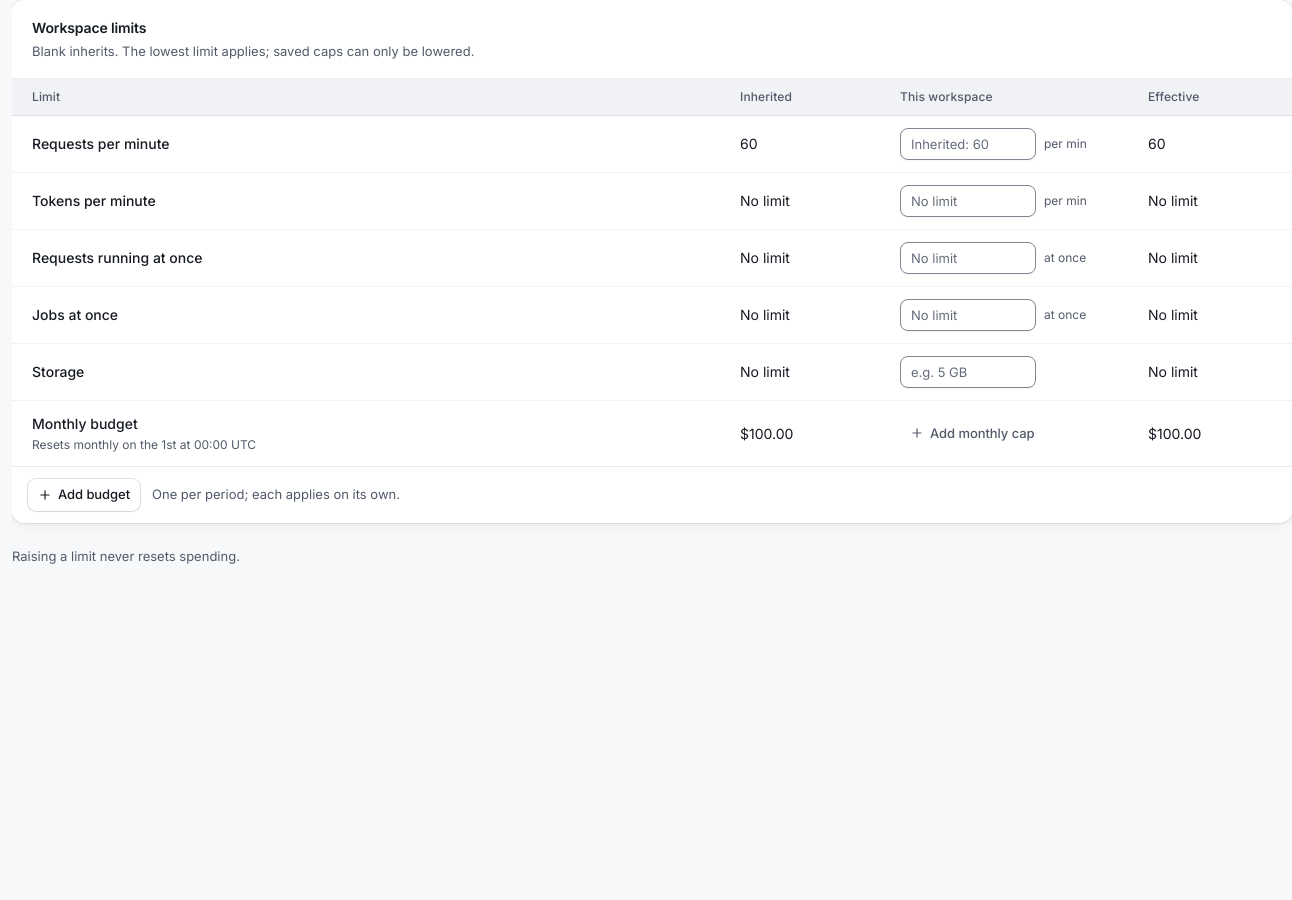
Test: Policy rejections in the limits editor › places exceeds_parent_budget on that period's budget row
The width and height of the screenshot is (1292, 900).
Click the button "Add budget" at (84, 494), box [28,478,140,510]
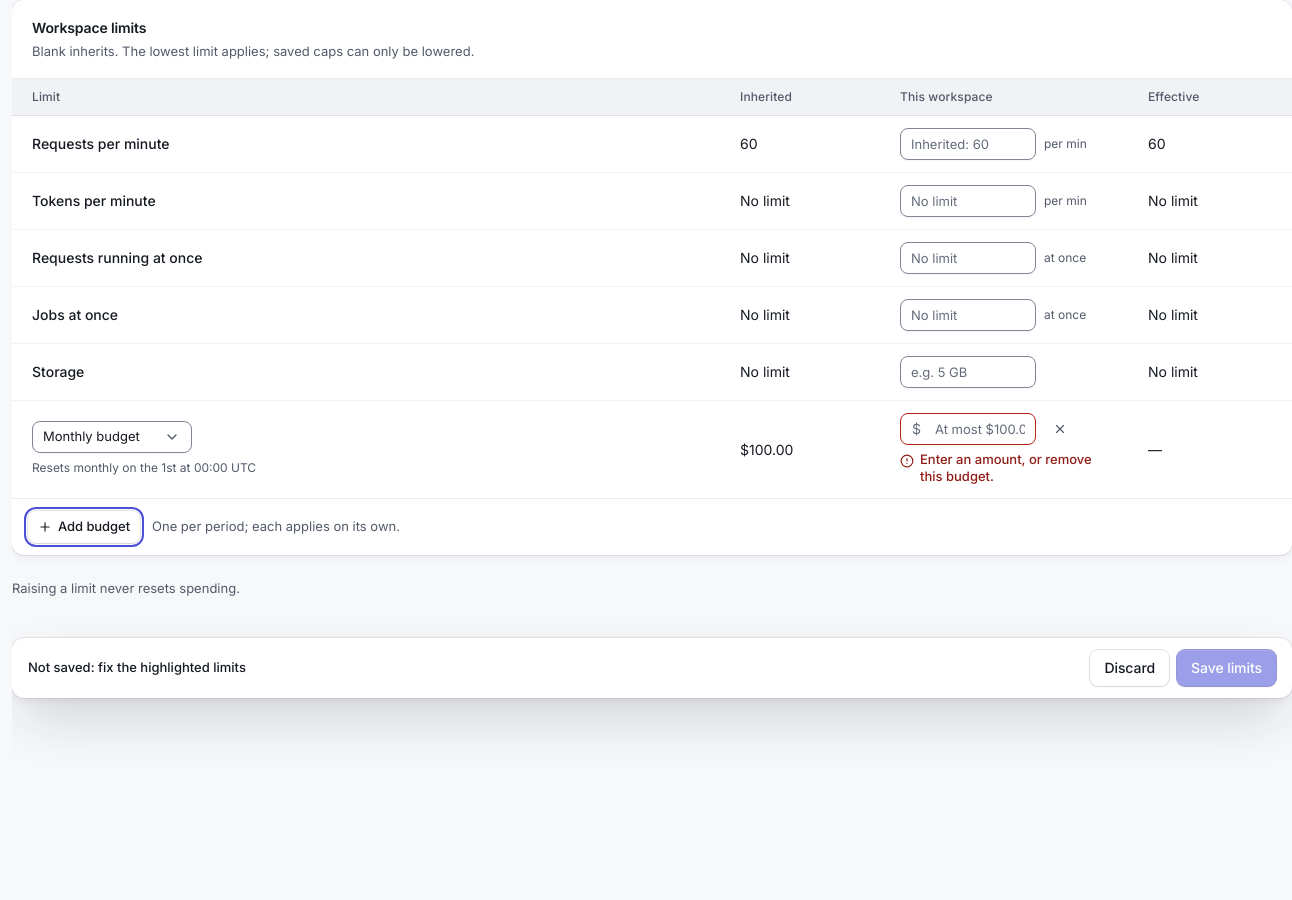
Type "50" into the field labelled "Monthly budget (USD) · This workspace" at (968, 428), box [900,412,1036,444]
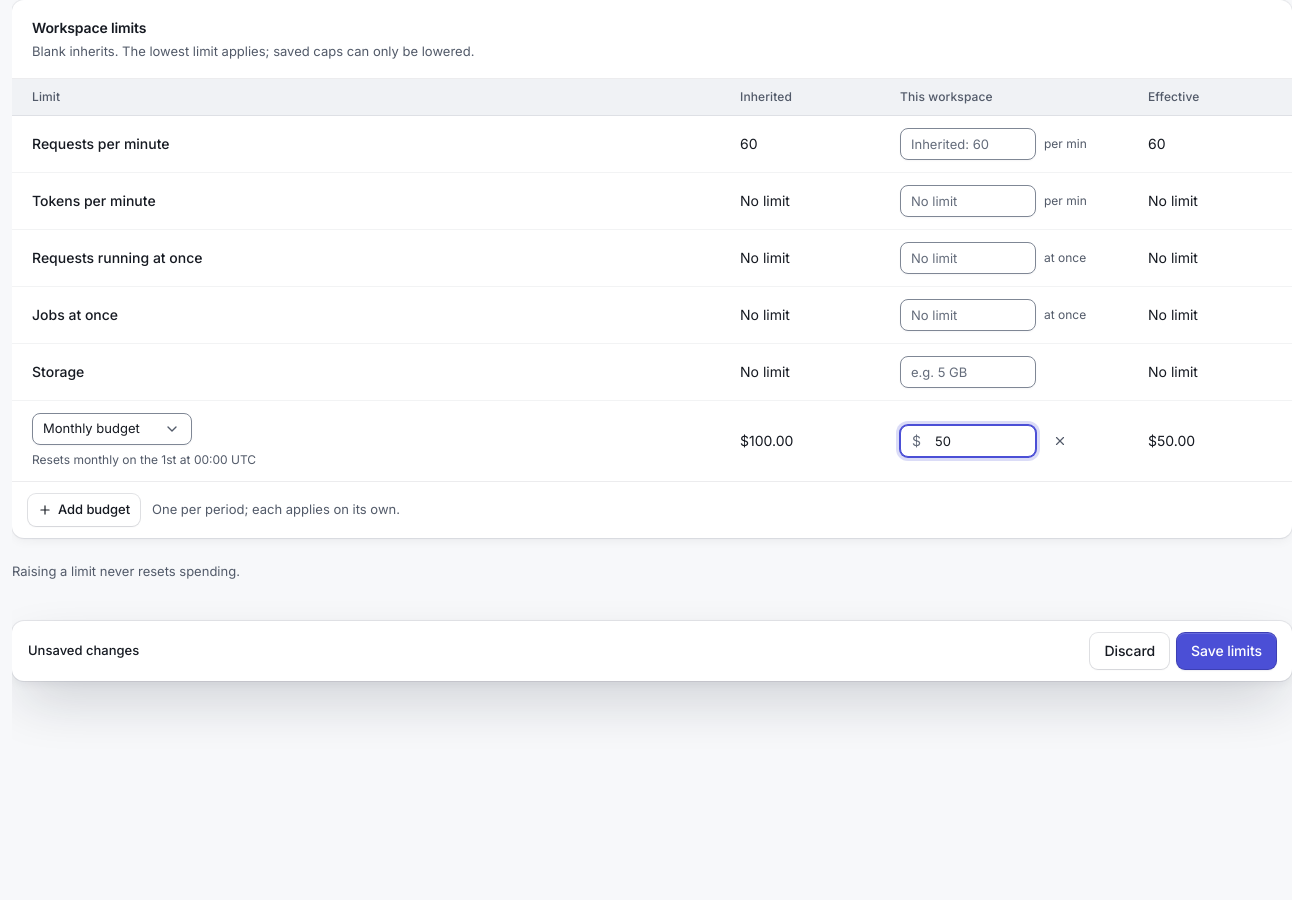
Click the button "Add budget" at (84, 510), box [28,494,140,526]
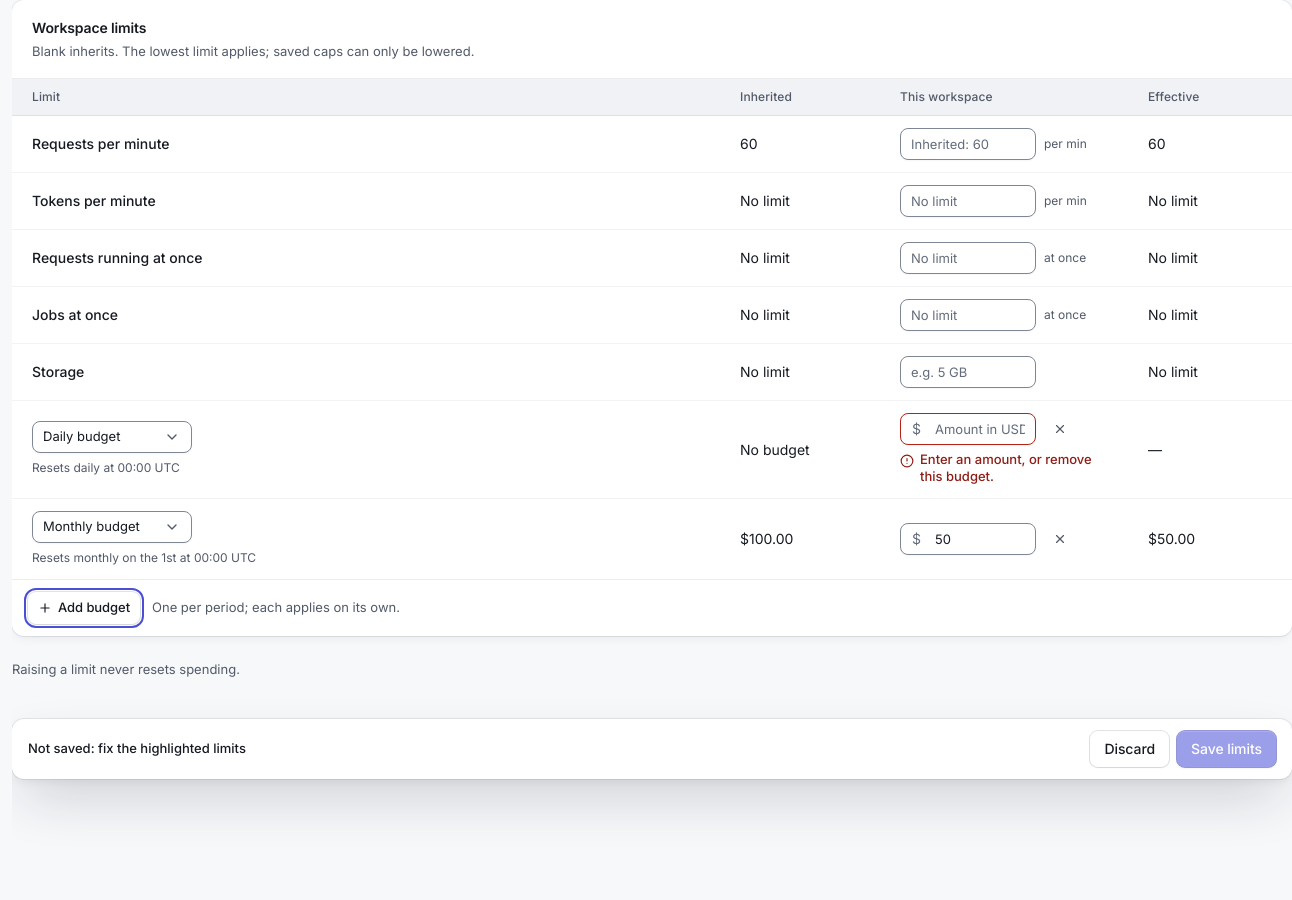
Type "5" into the field labelled "Daily budget (USD) · This workspace" at (968, 428), box [900,412,1036,444]
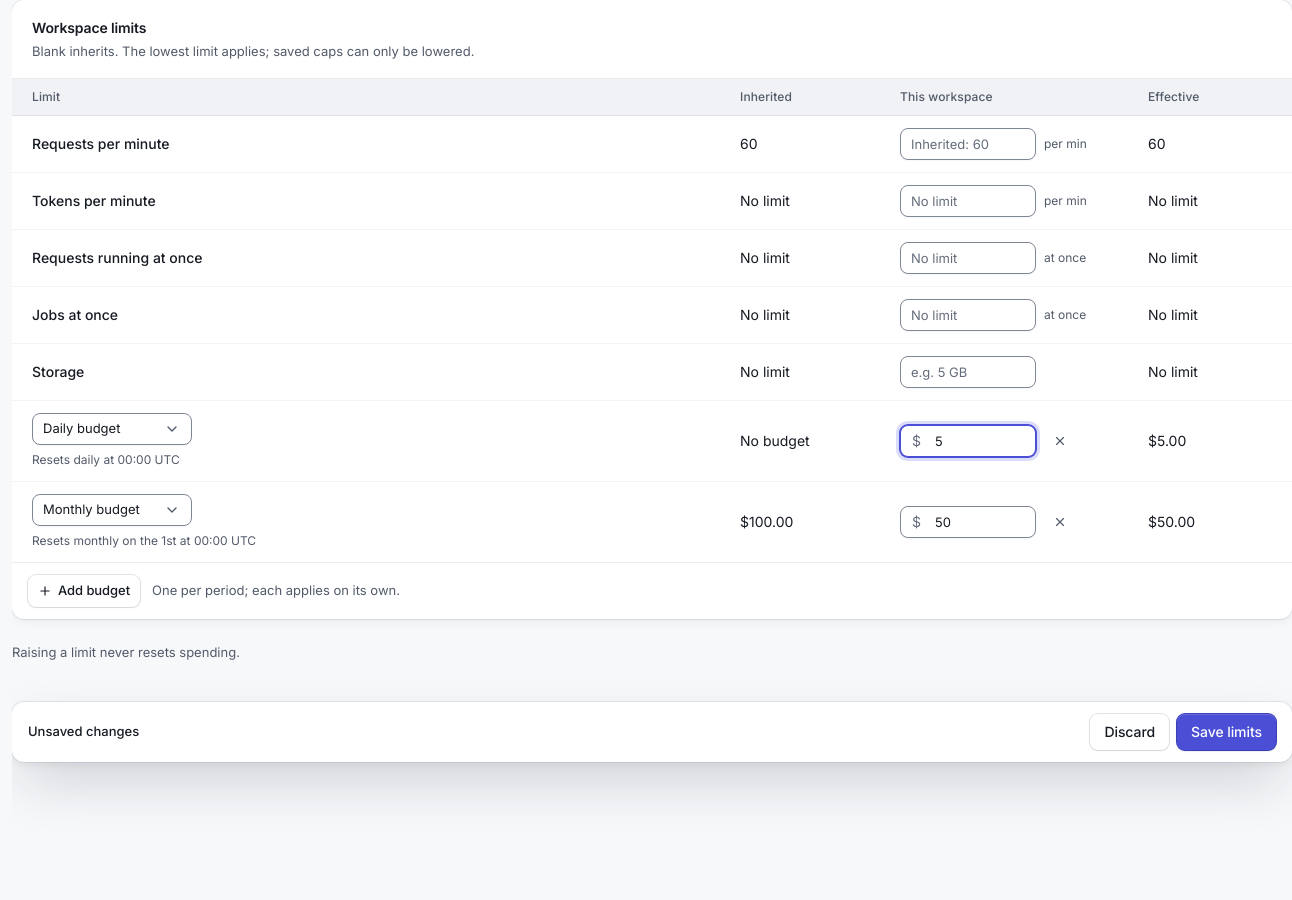
Click the button "Save limits" at (1226, 732), box [1177,714,1276,750]
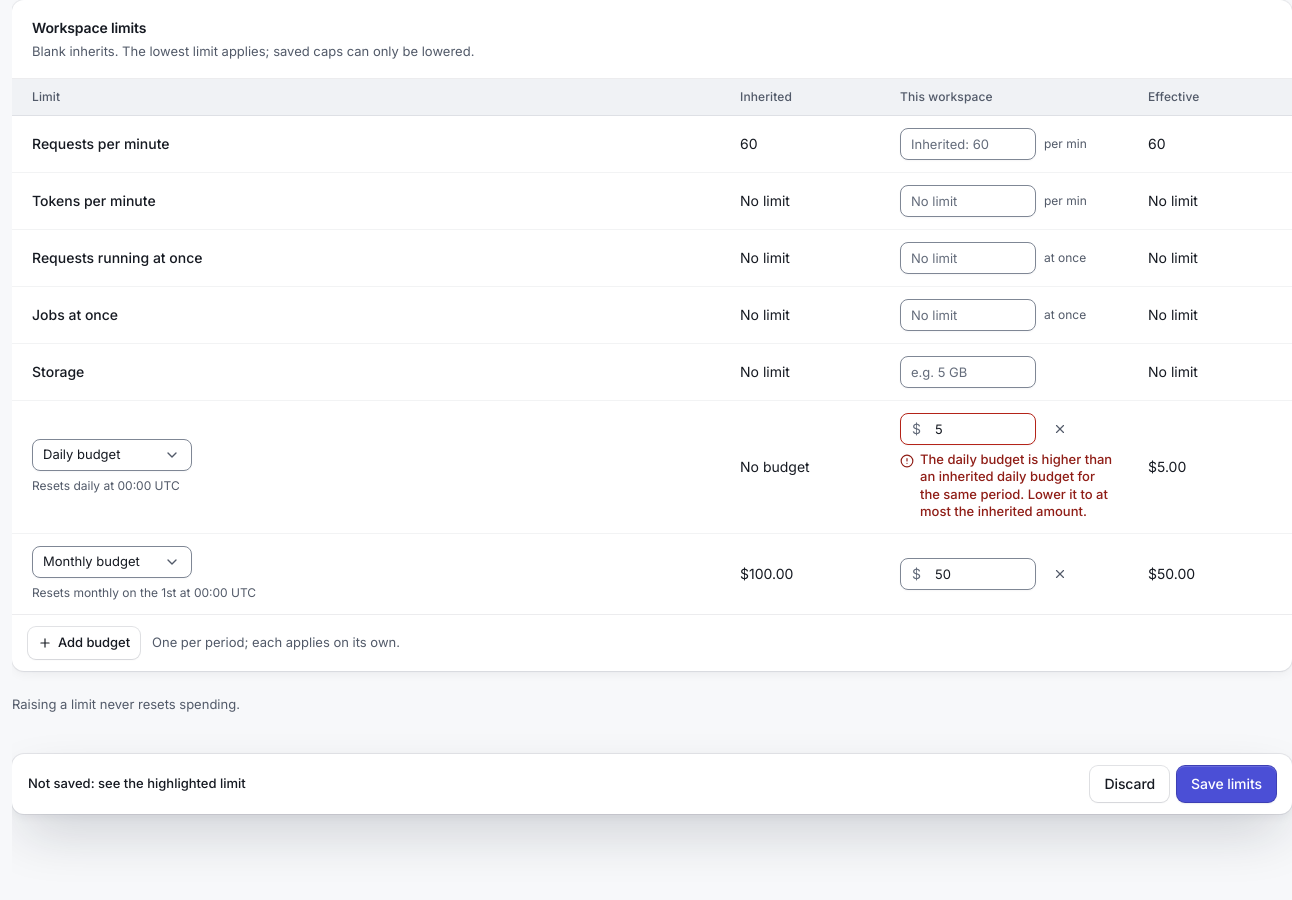
Check: the text "The daily budget is higher than an inherited daily budget for the same period. Lower it to at most the inherited amount." is shown, box [920,450,1112,519]
Check: the text "Not saved: see the highlighted limit" is shown, box [28,774,246,794]
